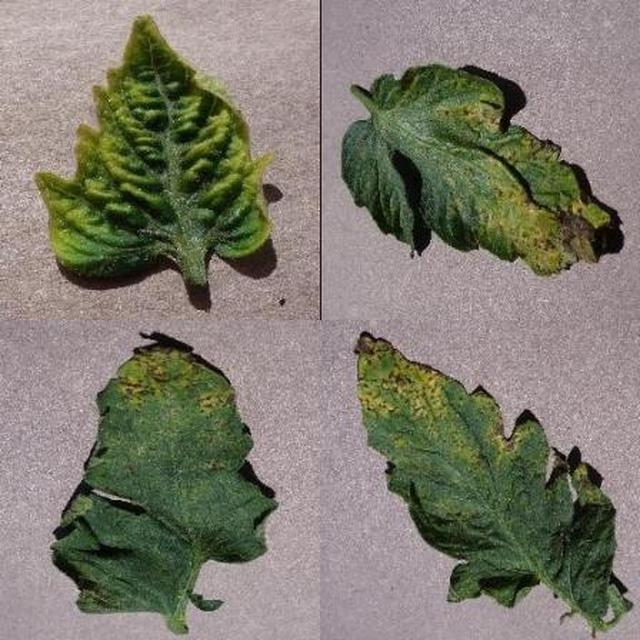Yellow Leaf Curl Virus: (220, 210, 640, 640)
